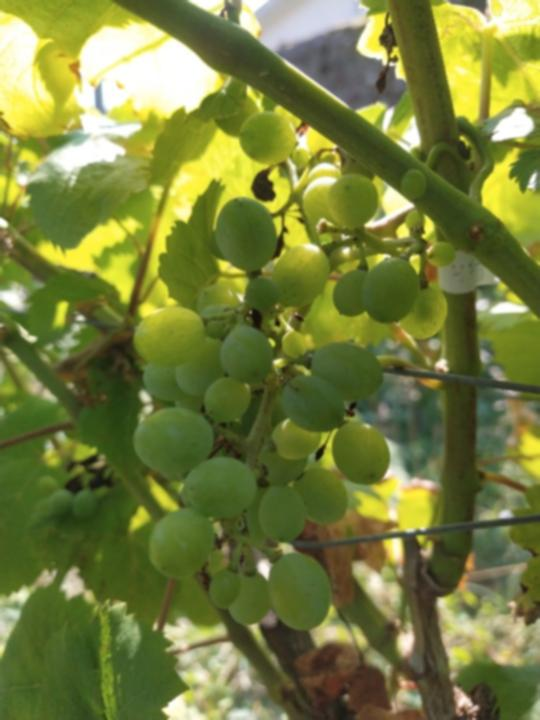grape: (130, 92, 450, 635)
